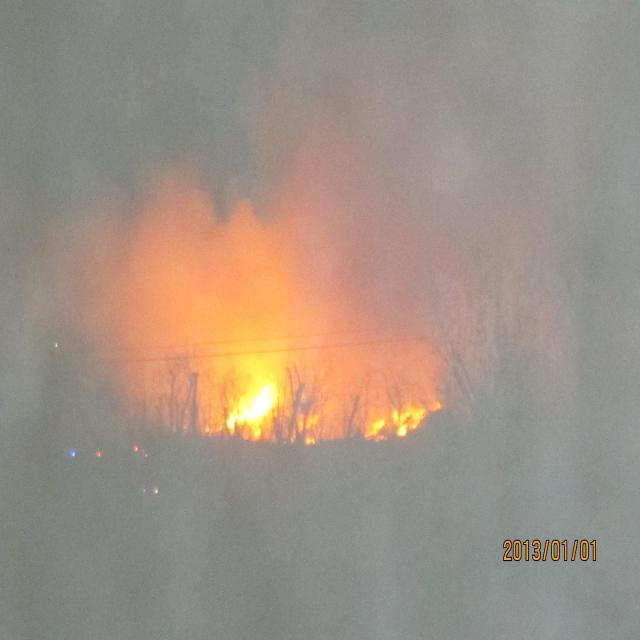fire: (157, 314, 459, 462)
smoke: (136, 207, 348, 360)
